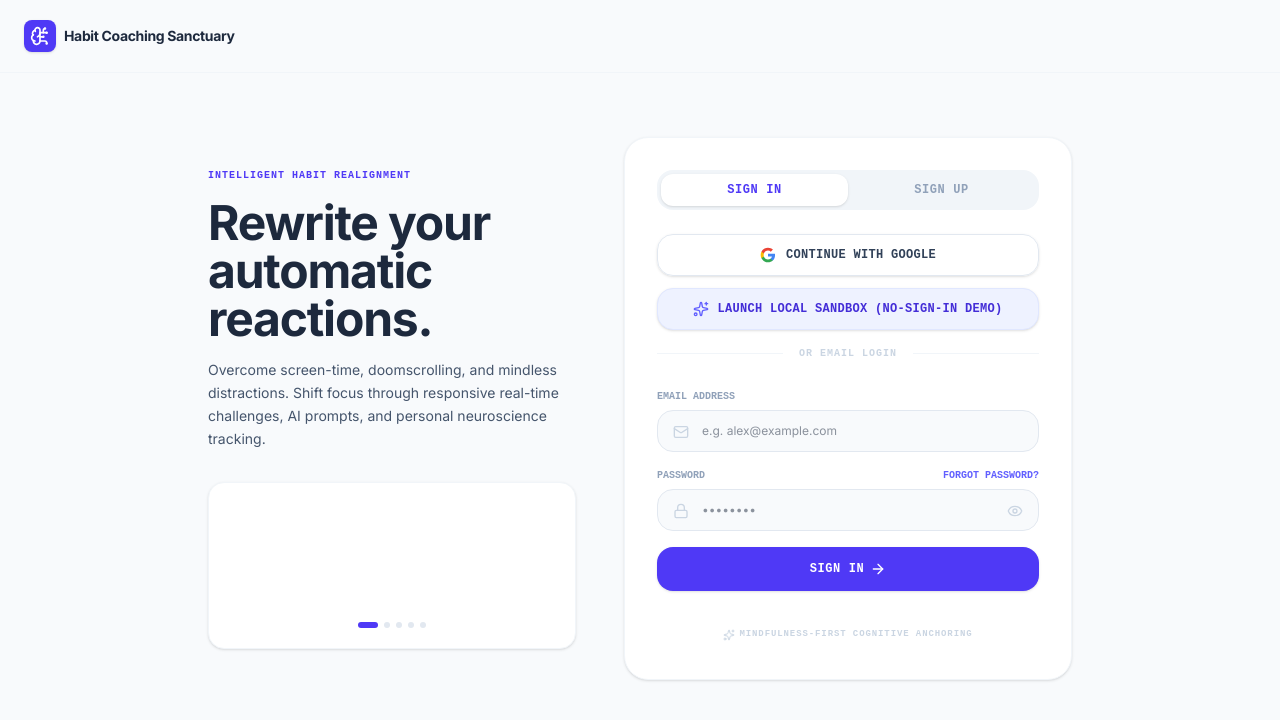
AuthScreen Component Tests › switches views smoothly to Sign Up when clicking the tab button
The width and height of the screenshot is (1280, 720).
Click the tab "Sign Up" at point(942, 190), box [848,174,1035,206]
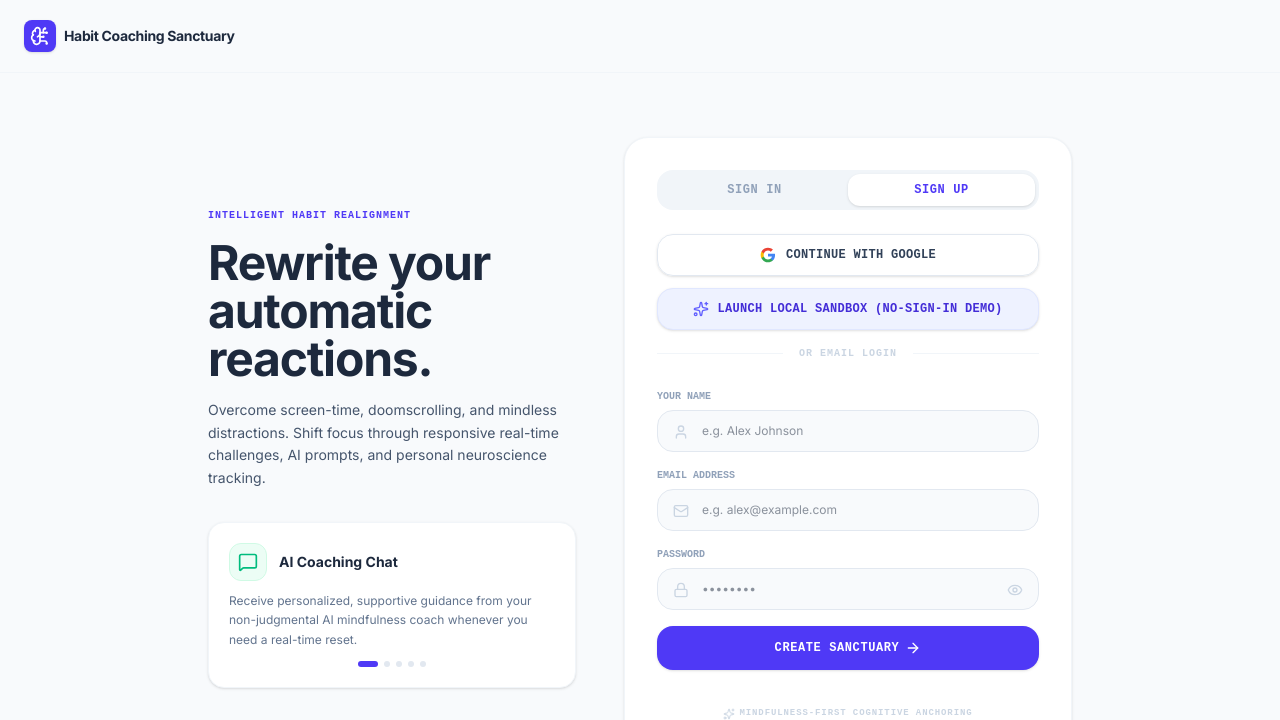
Expected: the field labelled "EMAIL ADDRESS" is shown, [657,489,1039,531]
Expected: the field labelled "YOUR NAME" is shown, [657,410,1039,452]
